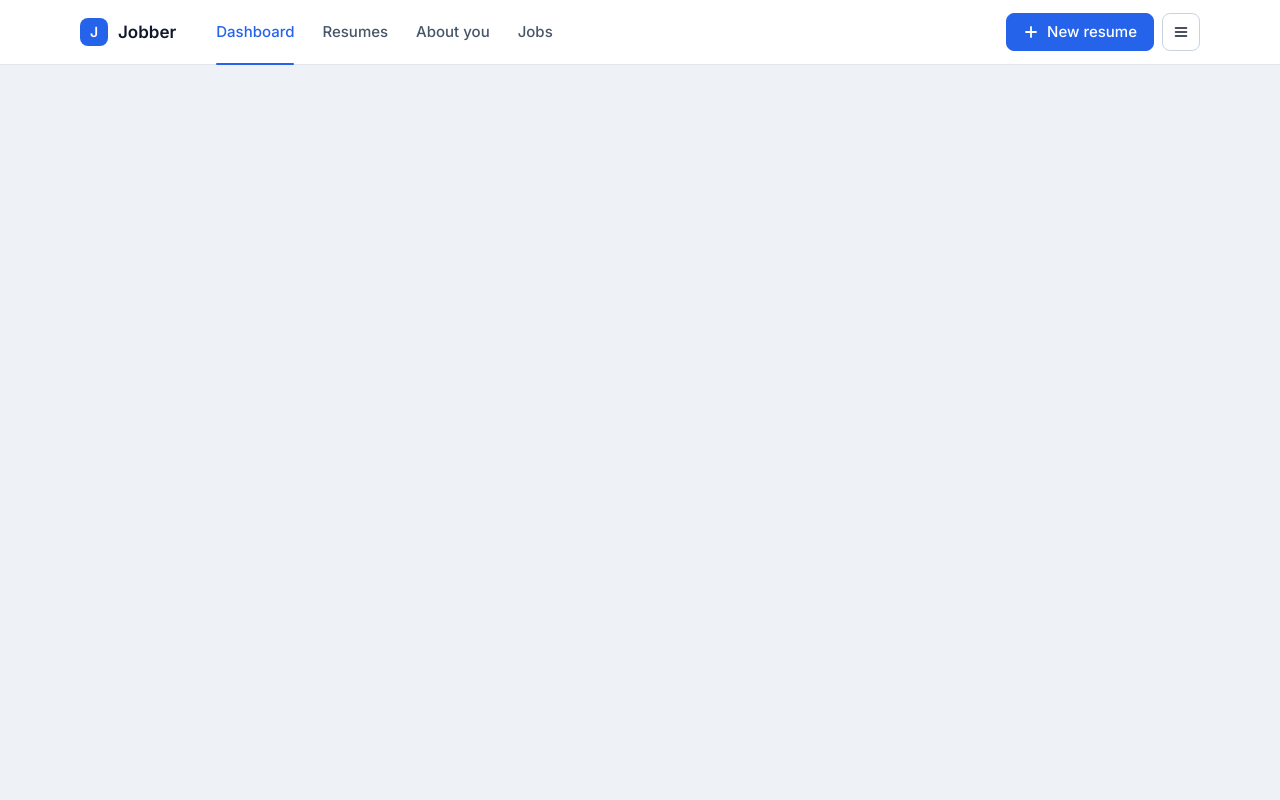
Test case: header and menu slider › closes when a menu link is followed
The image size is (1280, 800).
Click the button named "Open menu" at (1181, 32), box [1162,13,1200,51]
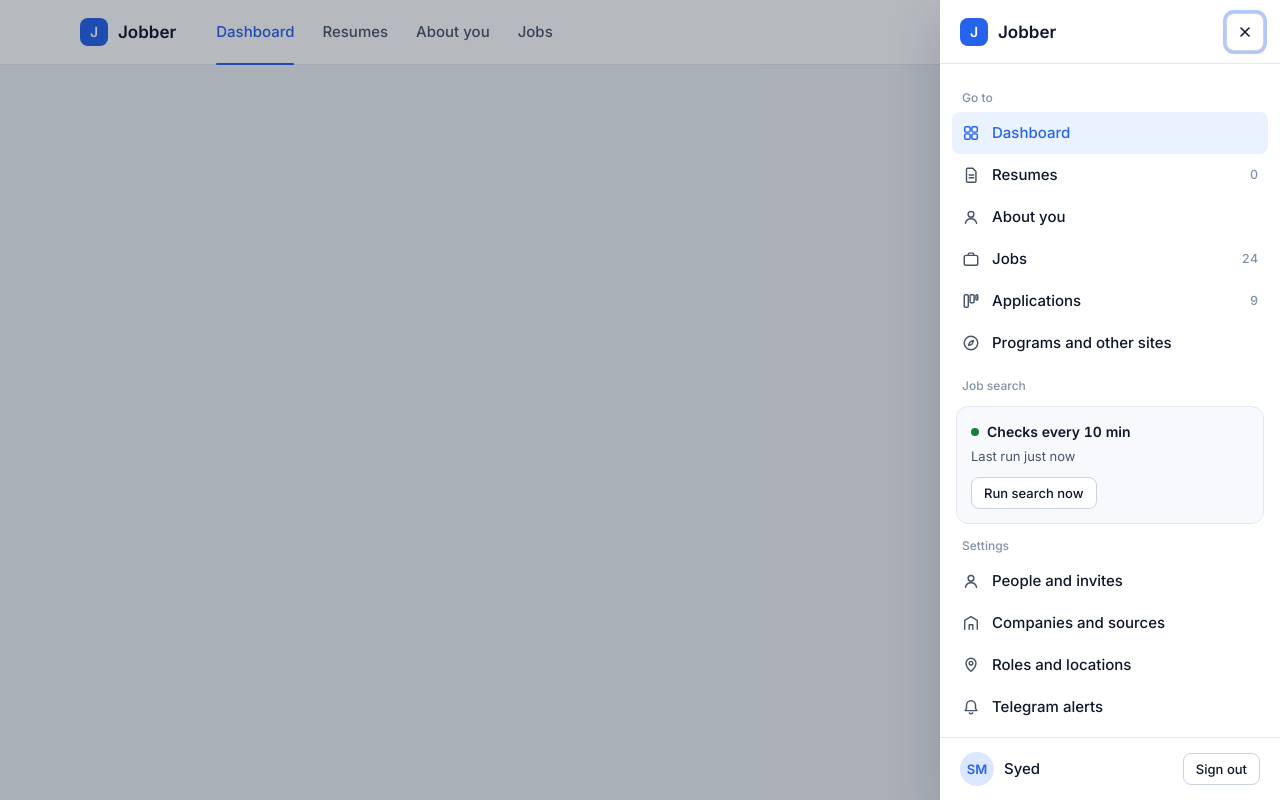
Click the link "Jobs 24" at (1010, 258), box [962,249,1258,268]
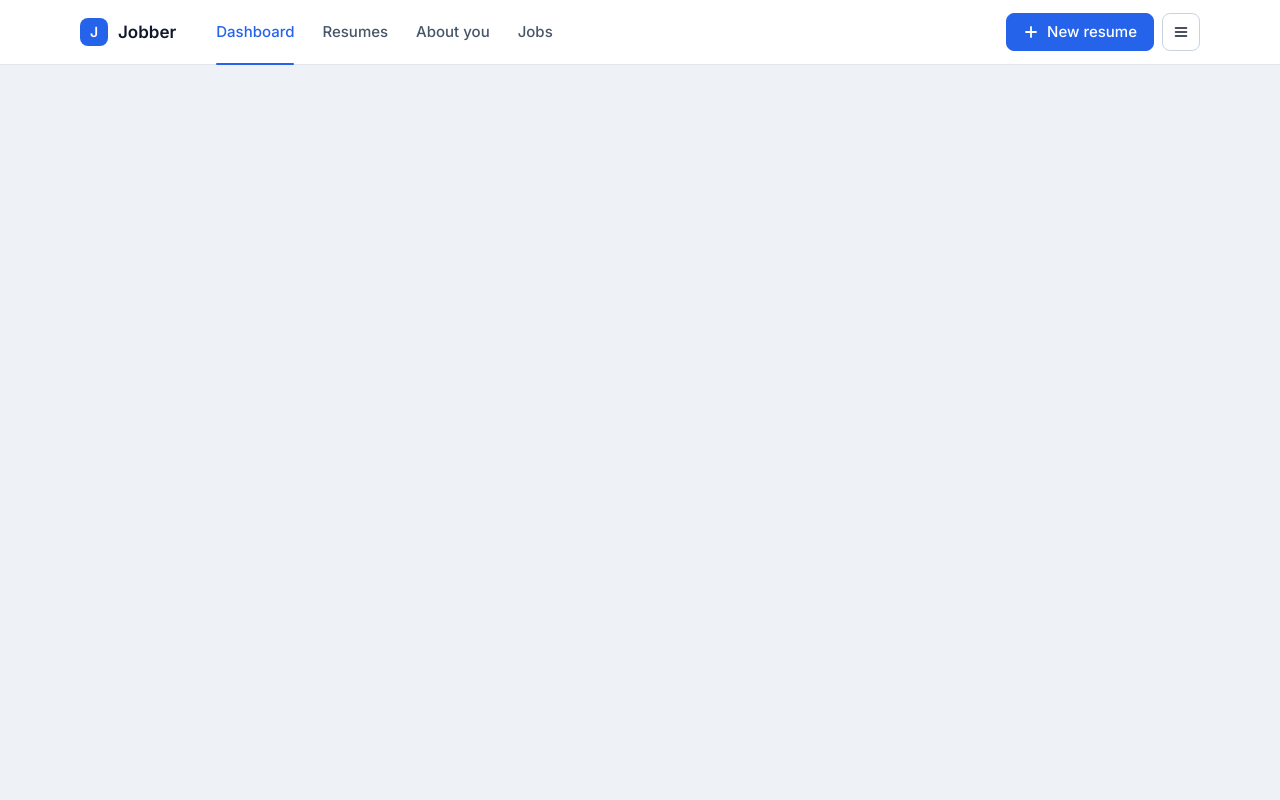
Expected: the button named "Open menu" is collapsed, [1162,13,1200,51]
